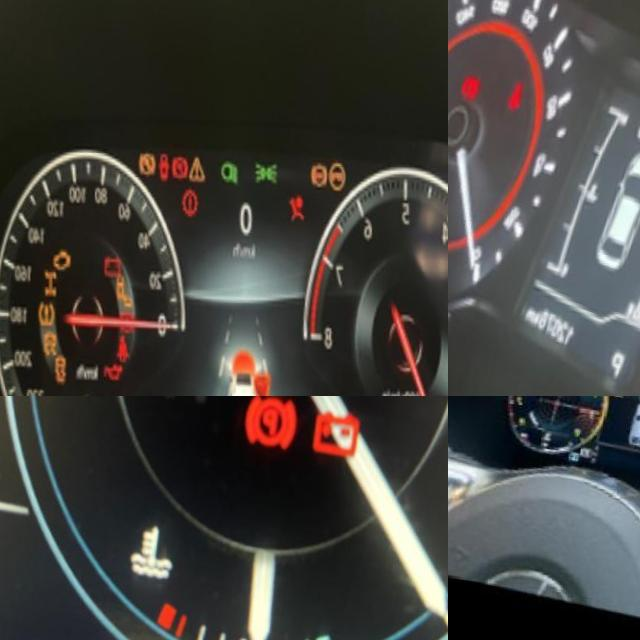Central Warning lamp: (189, 148, 214, 183)
Doors: (158, 144, 178, 179)
Engine cooling system: (551, 414, 562, 428)
Low beam: (221, 149, 248, 184)
